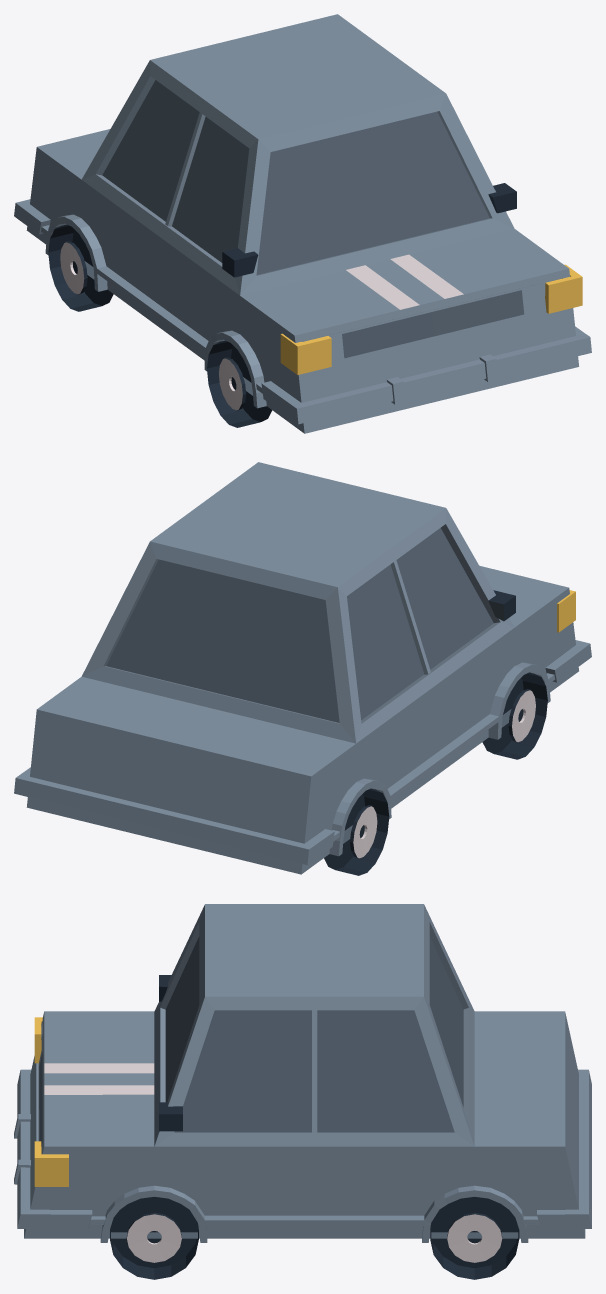
Rendered from car1.fbx.
3 renders of one model, top to bottom at view 1: azimuth 30°, elevation 25°; view 2: azimuth 150°, elevation 25°; view 3: azimuth 270°, elevation 25°, orthographic.
Visible parts, largest first — view 1: purple.003; view 2: purple.003; view 3: purple.003.
Part boxes in pixels (x1,y1,x2,y2): purple.003: [14, 14, 591, 433]; purple.003: [14, 462, 591, 875]; purple.003: [14, 904, 591, 1279].
Size of the model in its own units: 216 by 177 by 361.
